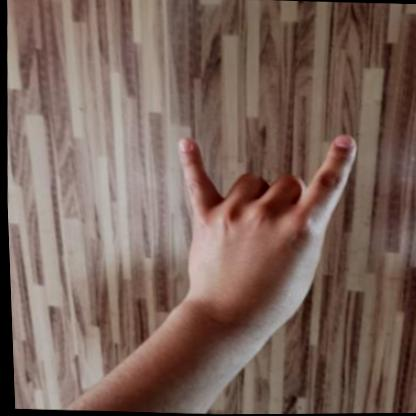U: (169, 130, 365, 308)
